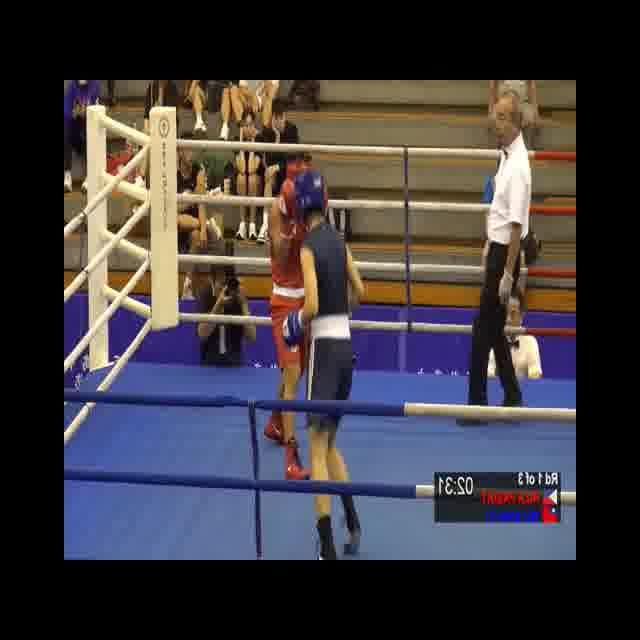blue-player: (283, 167, 369, 559)
red-player: (262, 157, 332, 489)
referee: (454, 88, 536, 429)
